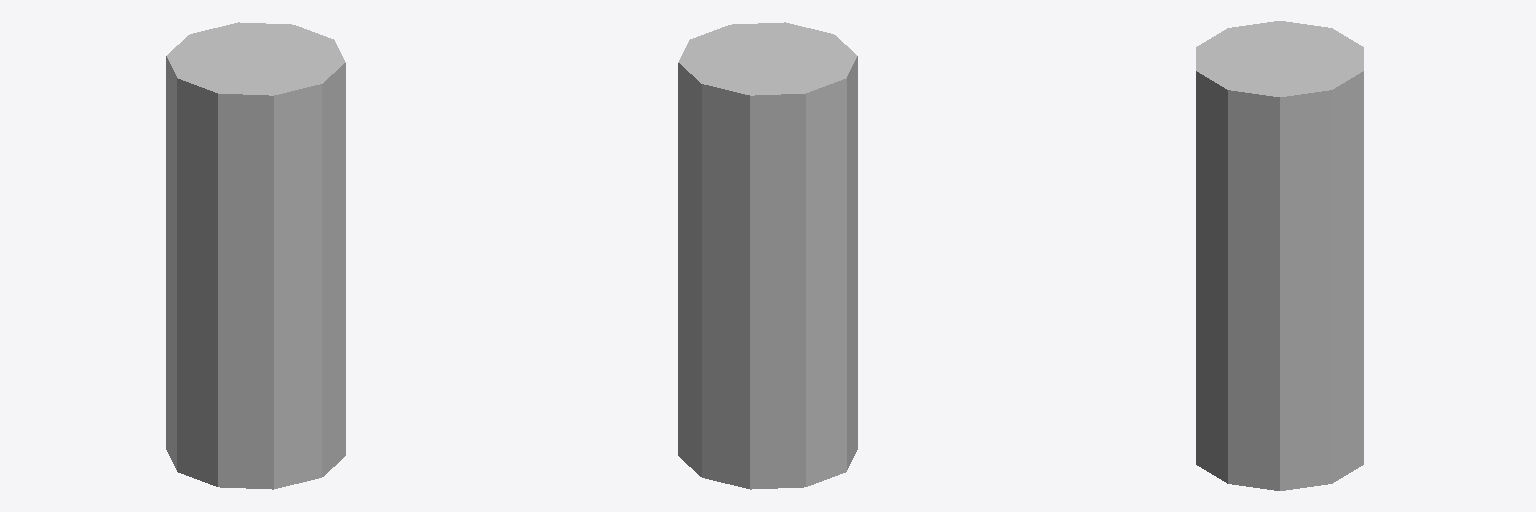
The model's file is CylinderBuilding.obj.
3 renders of one model, left to right at view 1: azimuth 30°, elevation 25°; view 2: azimuth 150°, elevation 25°; view 3: azimuth 270°, elevation 25°, orthographic.
Parts seen in each view (by area): view 1: CylinderBuilding; view 2: CylinderBuilding; view 3: CylinderBuilding.
Part boxes in pixels (x1,y1,x2,y2): CylinderBuilding: (166, 22, 345, 489); CylinderBuilding: (678, 22, 857, 489); CylinderBuilding: (1196, 21, 1363, 490).
Bounding box in the file's own units: 14.62 × 34.98 × 13.51.